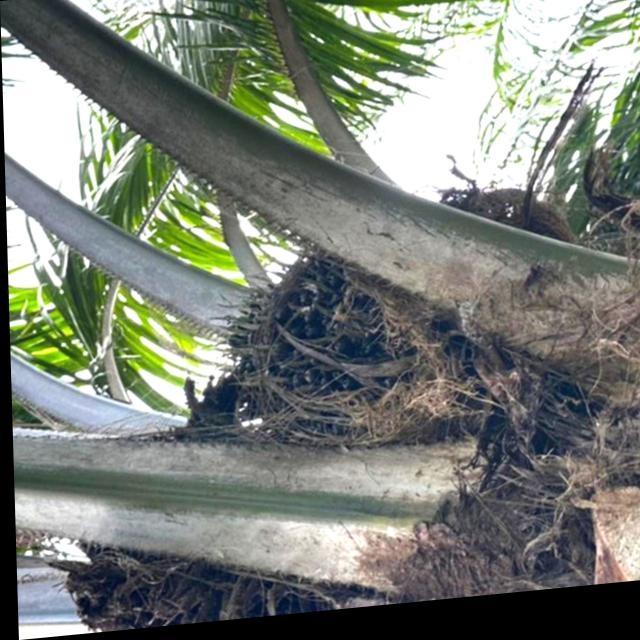almost: (199, 233, 438, 458)
